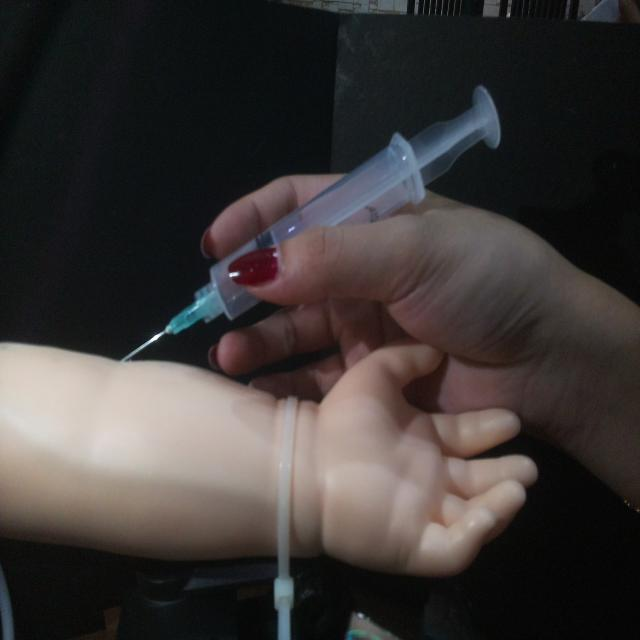30deg: (117, 80, 505, 365)
